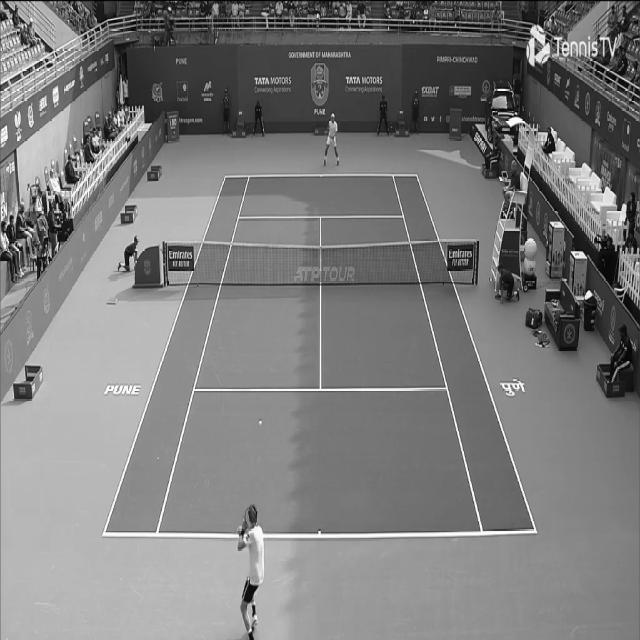tennis-court: (101, 174, 538, 538)
